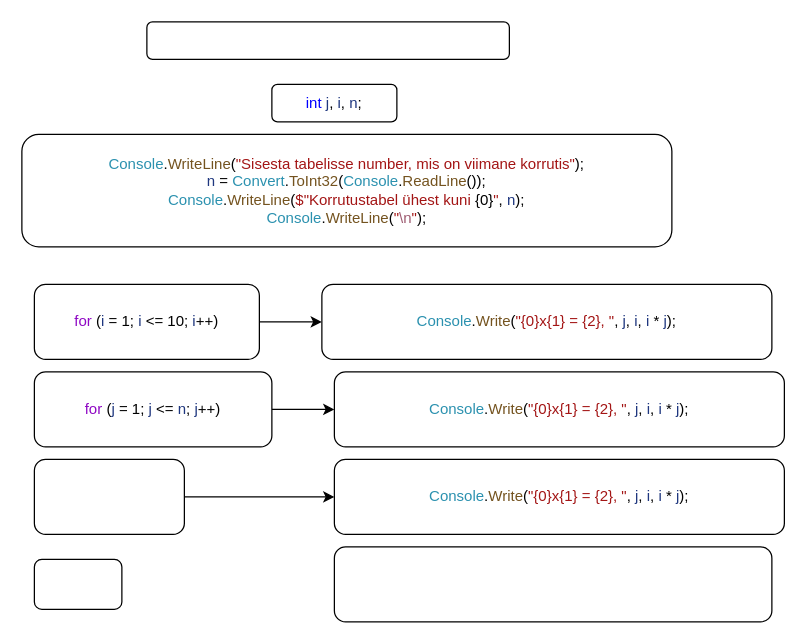
Image size: 806x644. Some labels were removed from this diagram. Here are the shapes that lost their labels. From the top down, the box of each, then its label:
(146, 21, 509, 59): C onsole . WriteLine ( "Korrutustabel" );
(33, 458, 184, 534): if ( j <= n - 1)
(33, 558, 122, 609): else
(333, 546, 772, 622): Console . Write ( "{0}x{1} = {2}" , j , i , i * j );
